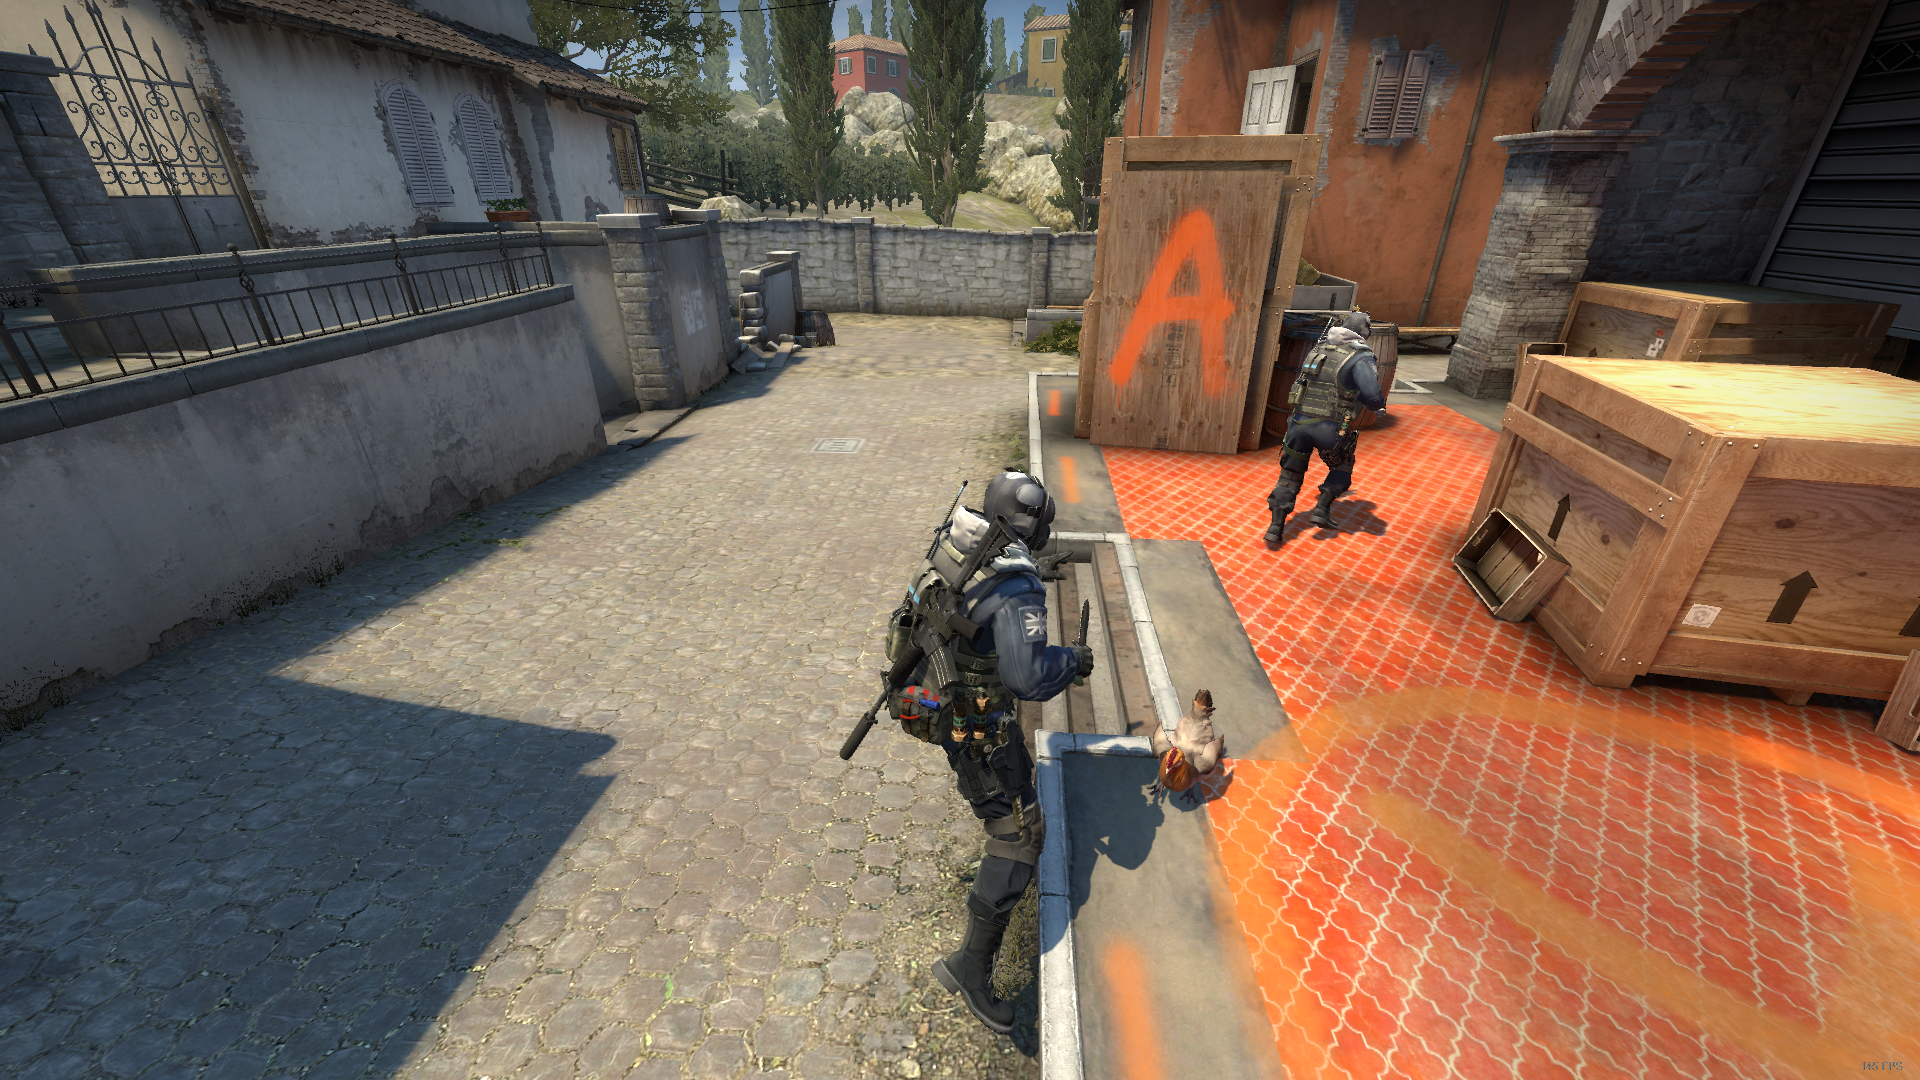ct: (886, 464, 1093, 1029), (1269, 309, 1386, 549)
